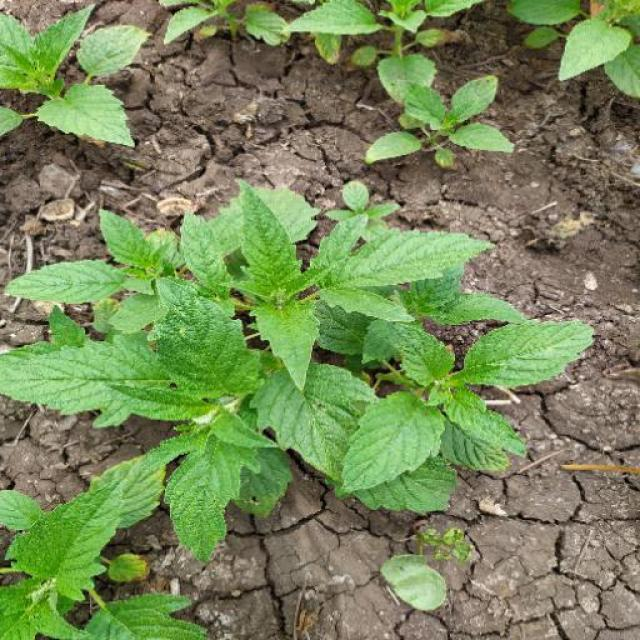crop: (8, 174, 606, 536), (2, 4, 156, 146), (362, 76, 518, 164)
